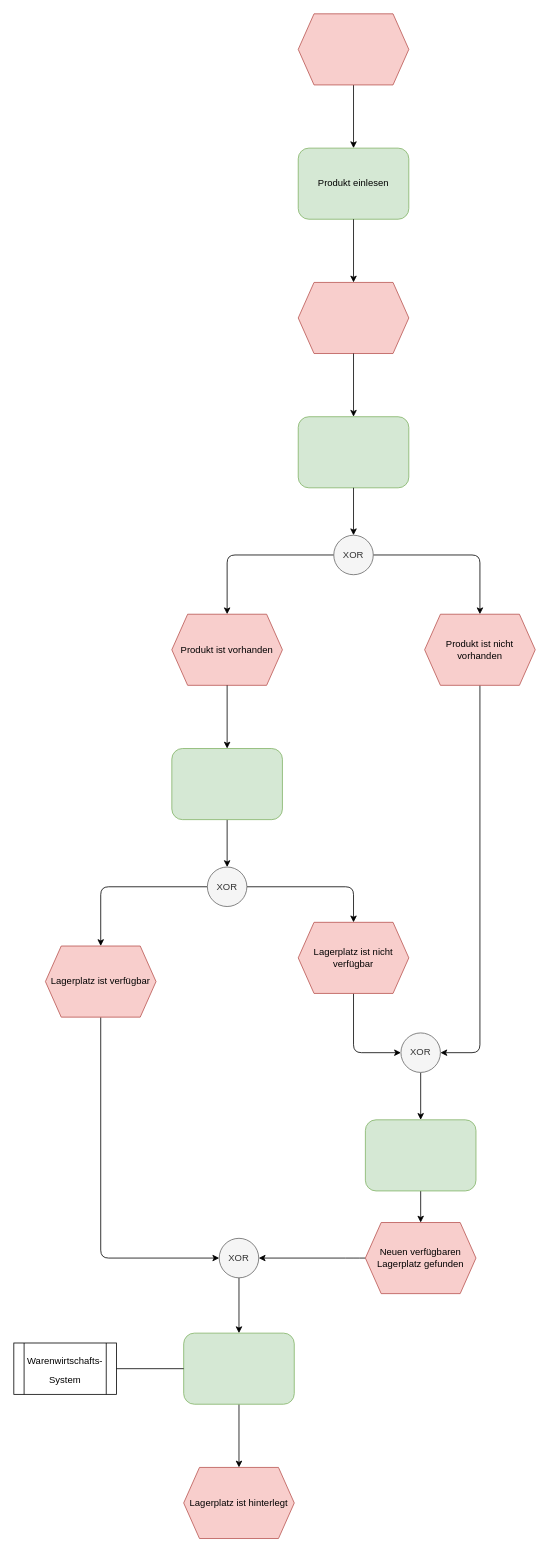
Some shapes in this 549 by 1552 pixel diagram are drawn without their labels. The shapes that lost their labels are listed below. From the top down, each one's centre as x and y in pixels, then its label:
At point 353,49: "Neues Produkt kommt ins Lager".
At point 353,318: "Produkt ist in das Warenwirtschafts-System eingelesen".
At point 353,452: "prüfe ob Produkt bereits vorhanden".
At point 226,784: "Lagerplatzverfügbarkeit prüfen".
At point 420,1155: "Lagerplatz suchen".
At point 238,1368: "Lagerplatz hinterlegen".
